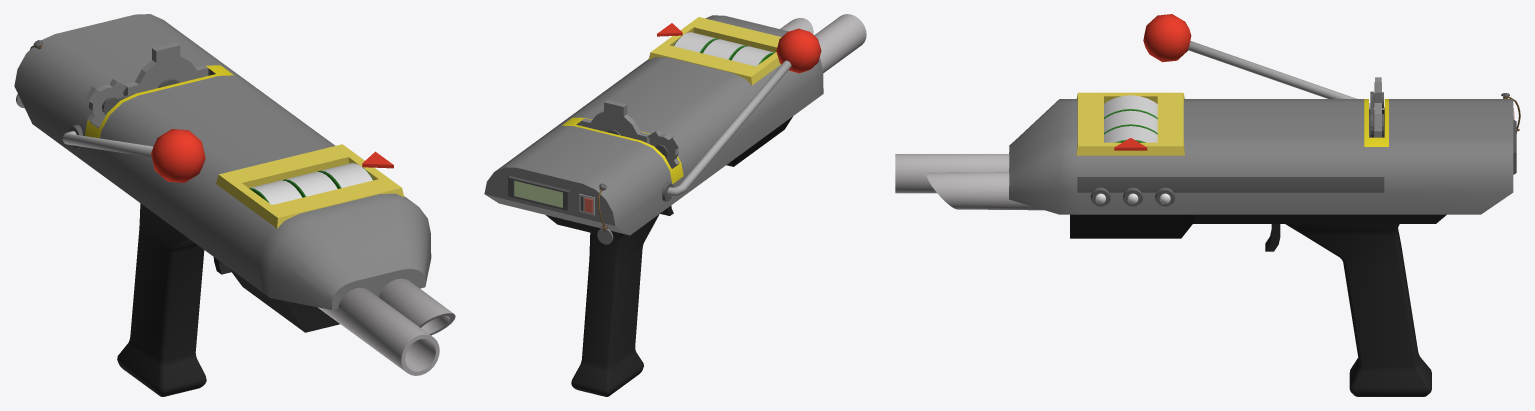
File: rouletteGun.fbx
The picture shows the model from 3 angles, left to right: view 1: azimuth 30°, elevation 25°; view 2: azimuth 150°, elevation 25°; view 3: azimuth 270°, elevation 25°; orthographic projection. The views are drawn at different scales.
Parts seen in each view (by area): view 1: Roulette Gun, Handle, Gear 2, Gear 1, Roulette Cylinder Left, Roulette Cylinder Mid, Roulette Cylinder Right; view 2: Roulette Gun, Handle, Gear 2, Gear 1, Roulette Cylinder Left, Roulette Cylinder Mid, Roulette Cylinder Right; view 3: Roulette Gun, Handle, Roulette Cylinder Right, Roulette Cylinder Mid, Roulette Cylinder Left.
Boxes of the visible parts, box(x1,y1,x2,y2) form: Roulette Gun: box(14, 14, 455, 396); Handle: box(62, 129, 205, 182); Gear 2: box(123, 42, 208, 95); Gear 1: box(85, 79, 126, 126); Roulette Cylinder Left: box(317, 163, 373, 188); Roulette Cylinder Mid: box(282, 171, 337, 197); Roulette Cylinder Right: box(249, 180, 302, 204); Roulette Gun: box(484, 14, 866, 396); Handle: box(667, 28, 821, 196); Gear 2: box(581, 100, 649, 143); Gear 1: box(648, 129, 681, 167); Roulette Cylinder Left: box(674, 32, 719, 53); Roulette Cylinder Mid: box(702, 39, 748, 60); Roulette Cylinder Right: box(731, 46, 774, 66); Roulette Gun: box(895, 91, 1520, 396); Handle: box(1143, 14, 1384, 109); Roulette Cylinder Right: box(1104, 95, 1157, 119); Roulette Cylinder Mid: box(1104, 110, 1157, 134); Roulette Cylinder Left: box(1104, 126, 1157, 142).
Bounding box in the file's own units: 19.43 × 53.49 × 30.78.
